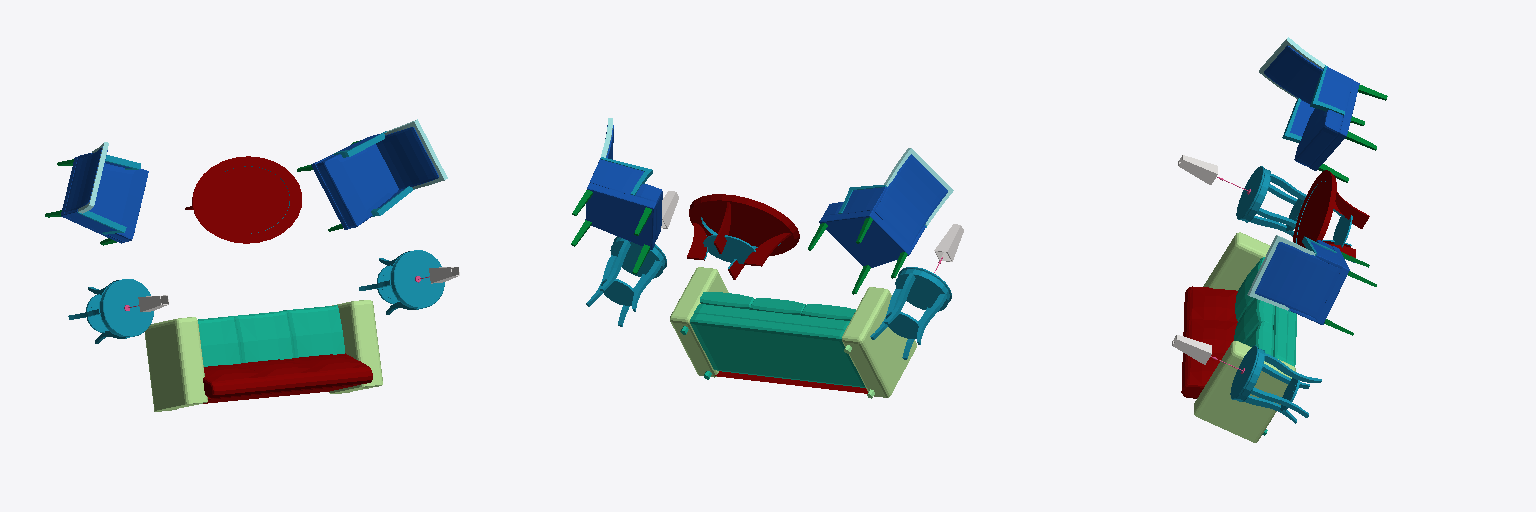
The model's file is sofa2.obj.
The picture shows the model from 3 angles: view 1: azimuth 30°, elevation 25°; view 2: azimuth 150°, elevation 25°; view 3: azimuth 270°, elevation 25°; orthographic projection.
Visible parts, largest first — view 1: Object.5, Object.33, Object.44, Object.35, Object.42, Object.22, Object.6, Object.23, Object.45, Object.20, Object.30, Object.1 (+6 smaller); view 2: Object.14, Object.5, Object.43, Object.36, Object.50, Object.6, Object.35, Object.33, Object.24, Object.53, Object.59, Object.21 (+12 smaller); view 3: Object.6, Object.45, Object.5, Object.43, Object.7, Object.42, Object.27, Object.9, Object.33, Object.63, Object.22, Object.35 (+11 smaller).
Boxes of the visible parts, x1,y1,x2,y2 form: Object.5: [145, 317, 207, 411]; Object.33: [205, 166, 289, 233]; Object.44: [316, 144, 398, 228]; Object.35: [192, 156, 301, 243]; Object.42: [89, 163, 148, 241]; Object.22: [234, 311, 294, 362]; Object.6: [329, 300, 382, 393]; Object.23: [283, 305, 344, 357]; Object.45: [376, 127, 438, 189]; Object.20: [393, 250, 444, 308]; Object.30: [103, 279, 153, 336]; Object.1: [198, 316, 241, 366]; Object.14: [690, 314, 865, 387]; Object.5: [842, 287, 916, 397]; Object.43: [875, 154, 947, 246]; Object.36: [819, 210, 911, 267]; Object.50: [585, 183, 656, 249]; Object.6: [670, 267, 728, 377]; Object.35: [689, 194, 799, 255]; Object.33: [702, 207, 781, 246]; Object.24: [694, 304, 849, 330]; Object.53: [895, 268, 950, 311]; Object.59: [590, 159, 643, 194]; Object.21: [610, 237, 665, 278]; Object.6: [1194, 341, 1295, 442]; Object.45: [1255, 242, 1340, 319]; Object.5: [1203, 232, 1269, 290]; Object.43: [1264, 45, 1322, 104]; Object.7: [1184, 286, 1237, 323]; Object.42: [1294, 108, 1342, 166]; Object.27: [1183, 319, 1237, 355]; Object.9: [1181, 352, 1224, 398]; Object.33: [1297, 181, 1327, 247]; Object.63: [1318, 67, 1352, 111]; Object.22: [1234, 298, 1274, 343]; Object.35: [1293, 170, 1336, 243].
Size of the model in its own units: 2220 by 1772 by 1173.